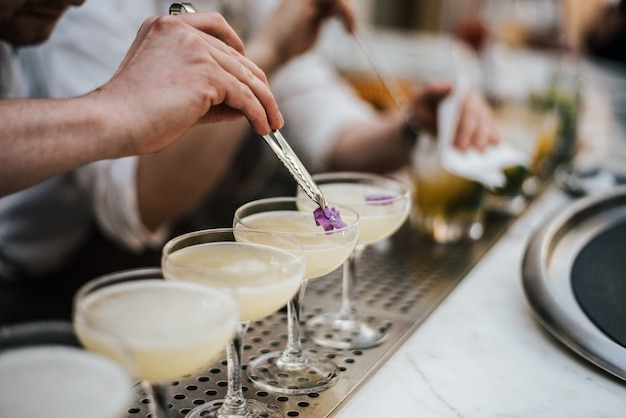alcohol: (160, 227, 305, 418), (230, 194, 362, 395), (70, 267, 241, 418), (294, 172, 412, 349), (0, 319, 147, 418)
